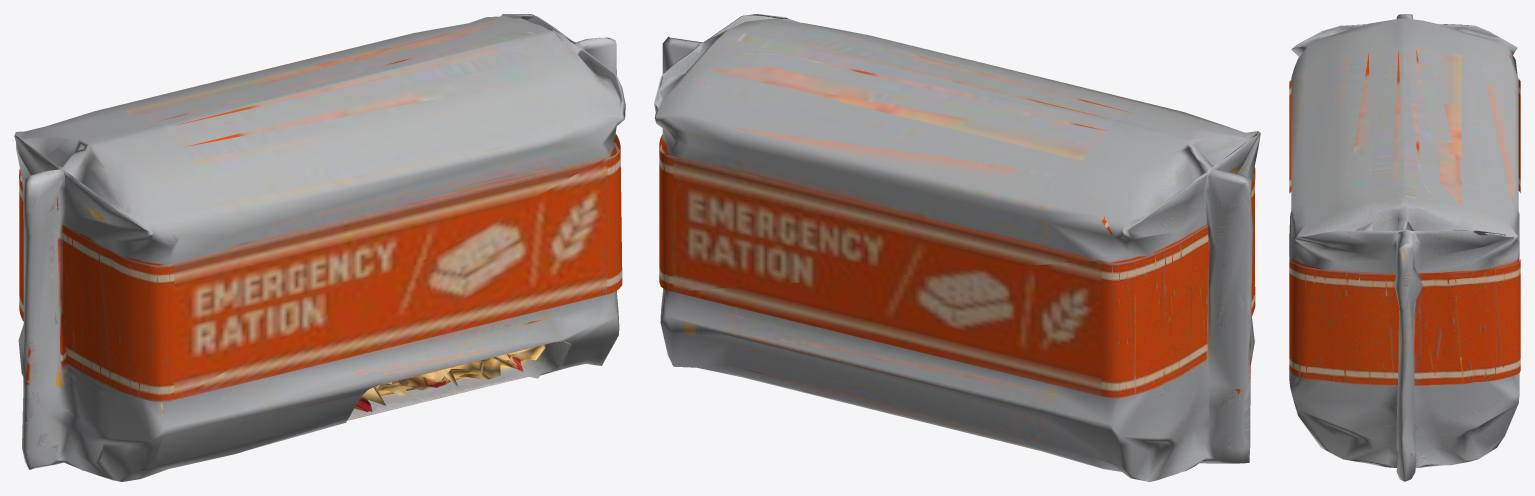
File: food-ration-brick.glb
3 views of the same model, side by side, from view 1: azimuth 30°, elevation 25°; view 2: azimuth 150°, elevation 25°; view 3: azimuth 270°, elevation 25° (orthographic). The views are drawn at different scales.
Visible parts, largest first — view 1: food-ration-brick; view 2: food-ration-brick; view 3: food-ration-brick.
Part boxes in pixels (left/top/right/bottom): food-ration-brick: left=14, top=14, right=625, bottom=481; food-ration-brick: left=654, top=14, right=1260, bottom=481; food-ration-brick: left=1289, top=14, right=1520, bottom=481.
Bounding box in the file's own units: 0.15 × 0.0761 × 0.062.
1 material, 1 textured.
